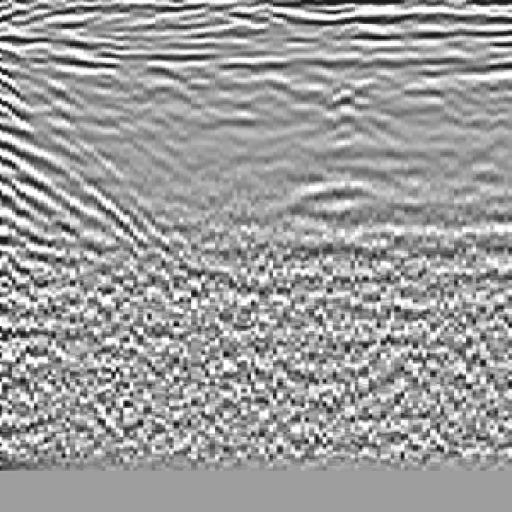metalic: (248, 45, 438, 263)
nonmetalic: (1, 52, 124, 270)
